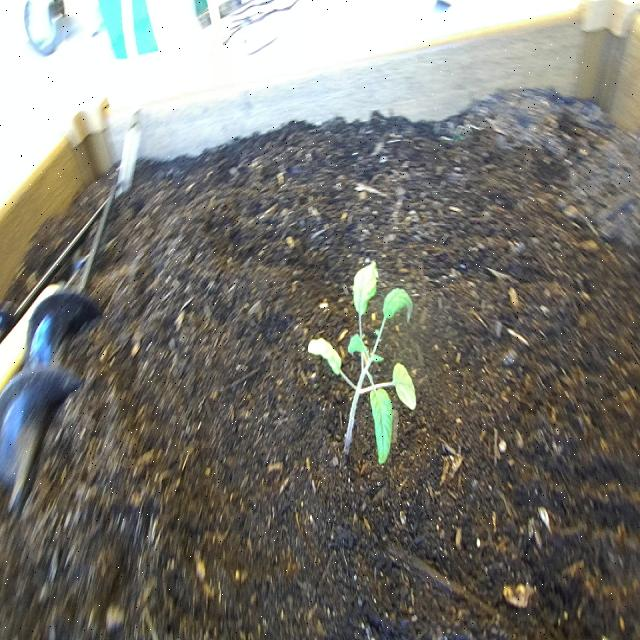Healthy: (307, 252, 421, 472)
